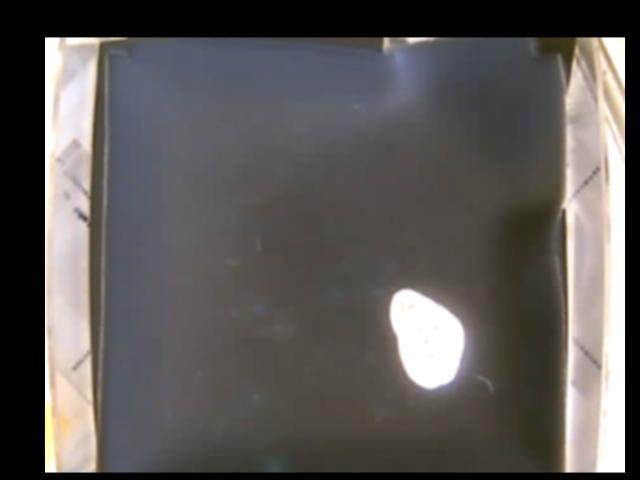Pebble: (389, 286, 465, 389)
